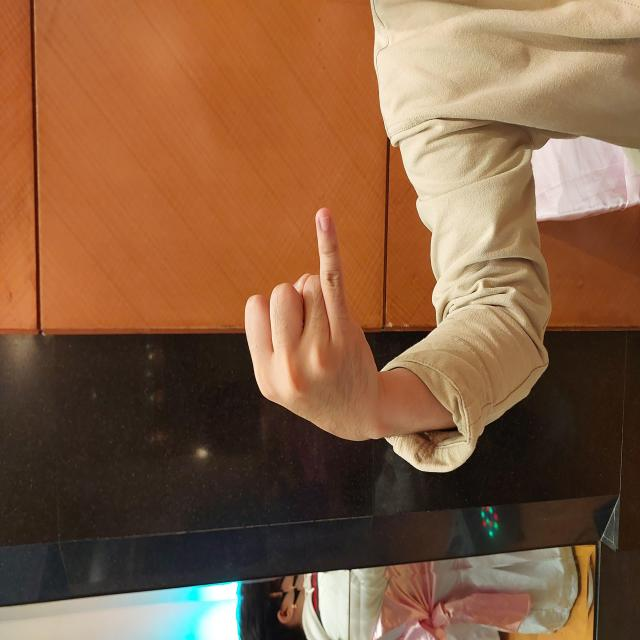J: (216, 185, 454, 480)
